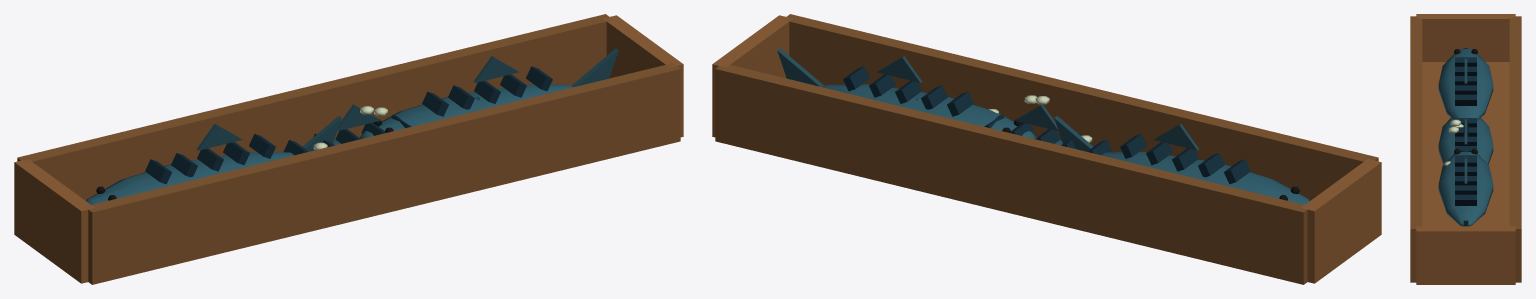
File: Fish_Mackerel.fbx
3 views of the same model, side by side, from view 1: azimuth 30°, elevation 25°; view 2: azimuth 150°, elevation 25°; view 3: azimuth 270°, elevation 25° (orthographic). The views are drawn at different scales.
Parts seen in each view (by area): view 1: Fish_Mackerel__Stack, Fish_Mackerel; view 2: Fish_Mackerel__Stack, Fish_Mackerel; view 3: Fish_Mackerel__Stack, Fish_Mackerel, Fish_Mackerel__Rotten.
Part boxes in pixels (x1=…): Fish_Mackerel__Stack: x1=14, y1=14, x2=683, y2=284; Fish_Mackerel: x1=283, y1=96, x2=479, y2=155; Fish_Mackerel__Stack: x1=712, y1=14, x2=1381, y2=284; Fish_Mackerel: x1=916, y1=96, x2=1112, y2=155; Fish_Mackerel__Stack: x1=1410, y1=14, x2=1521, y2=284; Fish_Mackerel: x1=1438, y1=118, x2=1493, y2=164; Fish_Mackerel__Rotten: x1=1444, y1=119, x2=1463, y2=165.
Size of the model in its own units: 0.348 by 0.0519 by 0.0751.
